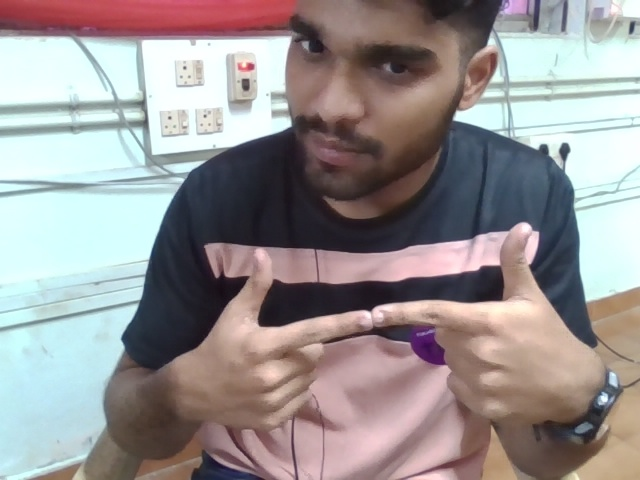hurt: (167, 205, 627, 444)
